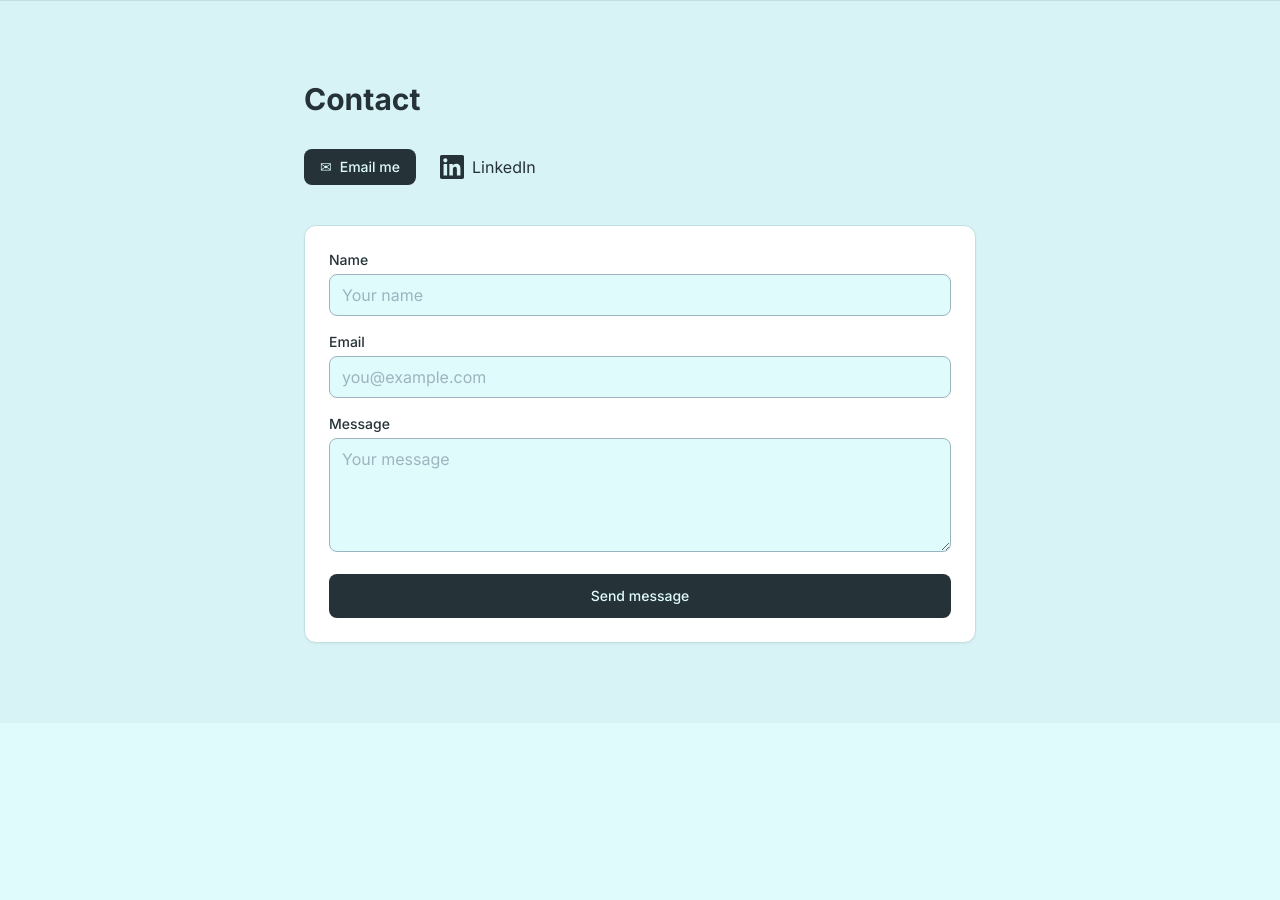
ContactSection › submits form and shows success message when Web3Forms succeeds
This screenshot has width=1280, height=900.
Type "Jane" into the field with placeholder "Your name".
click(640, 295); type("Jane")  # box 329,274 -> 951,316
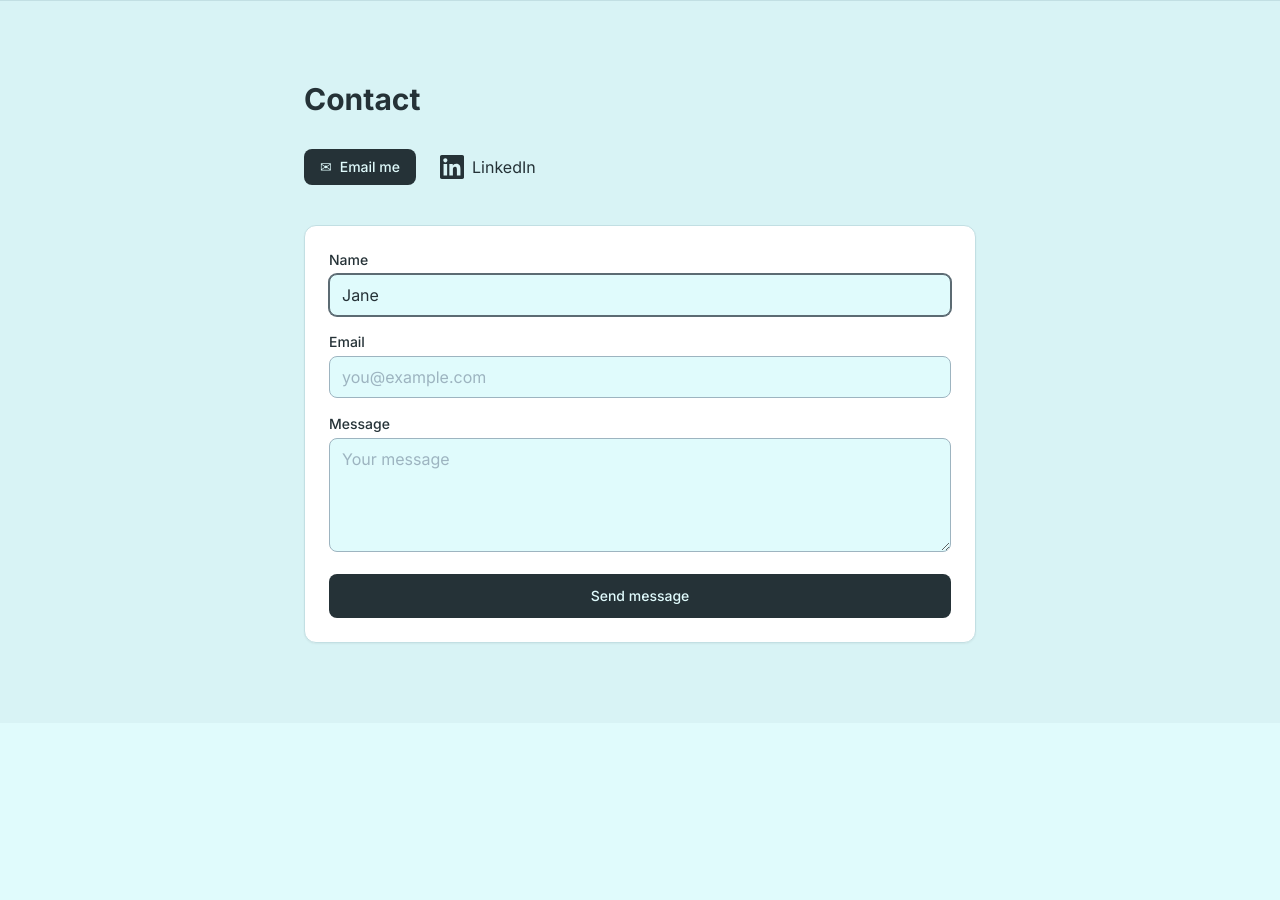
Type "jane@example.com" into the field with placeholder "you@example.com".
click(640, 377); type("jane@example.com")  # box 329,356 -> 951,398
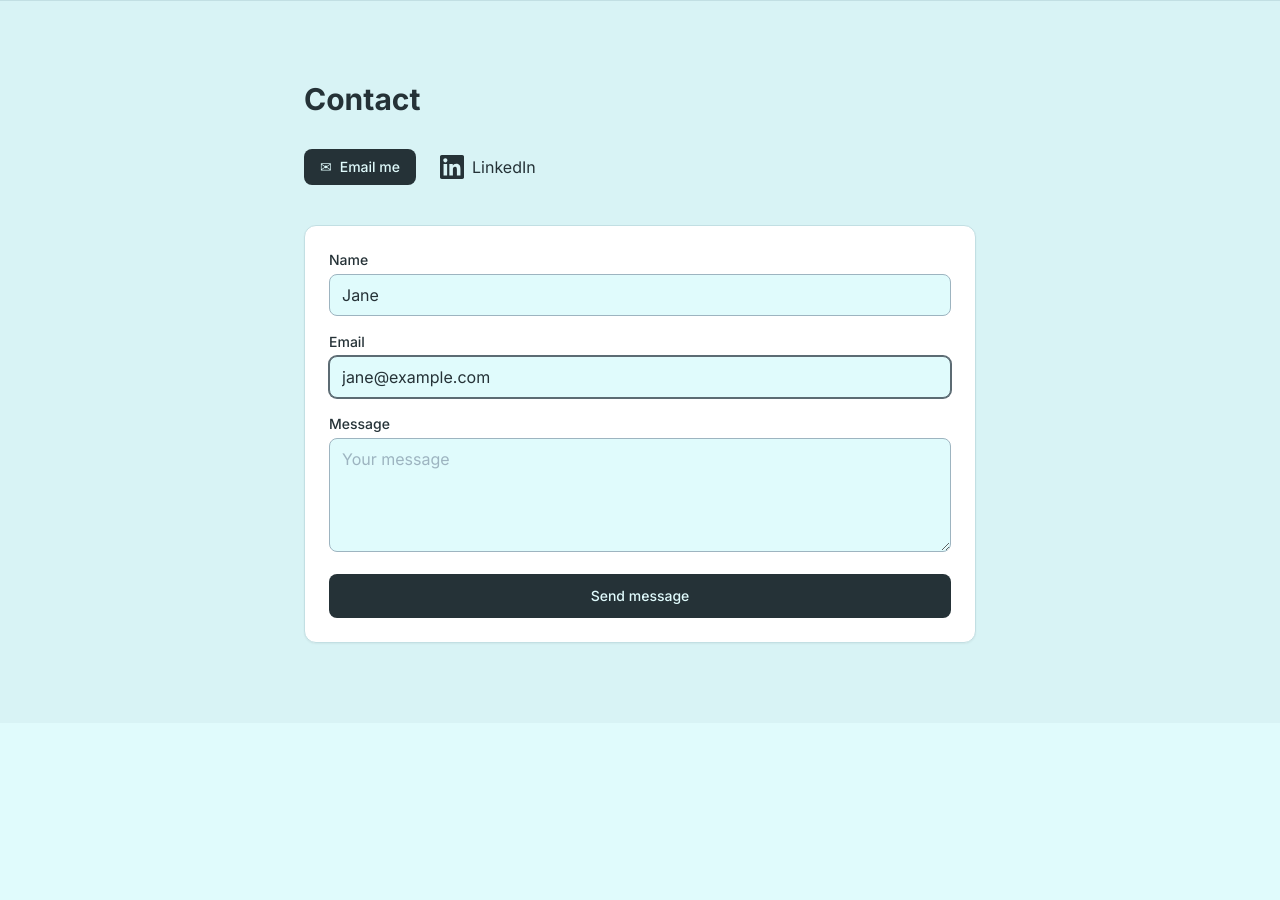
Type "Hello" into the text box with placeholder "Your message".
click(640, 495); type("Hello")  # box 329,438 -> 951,552
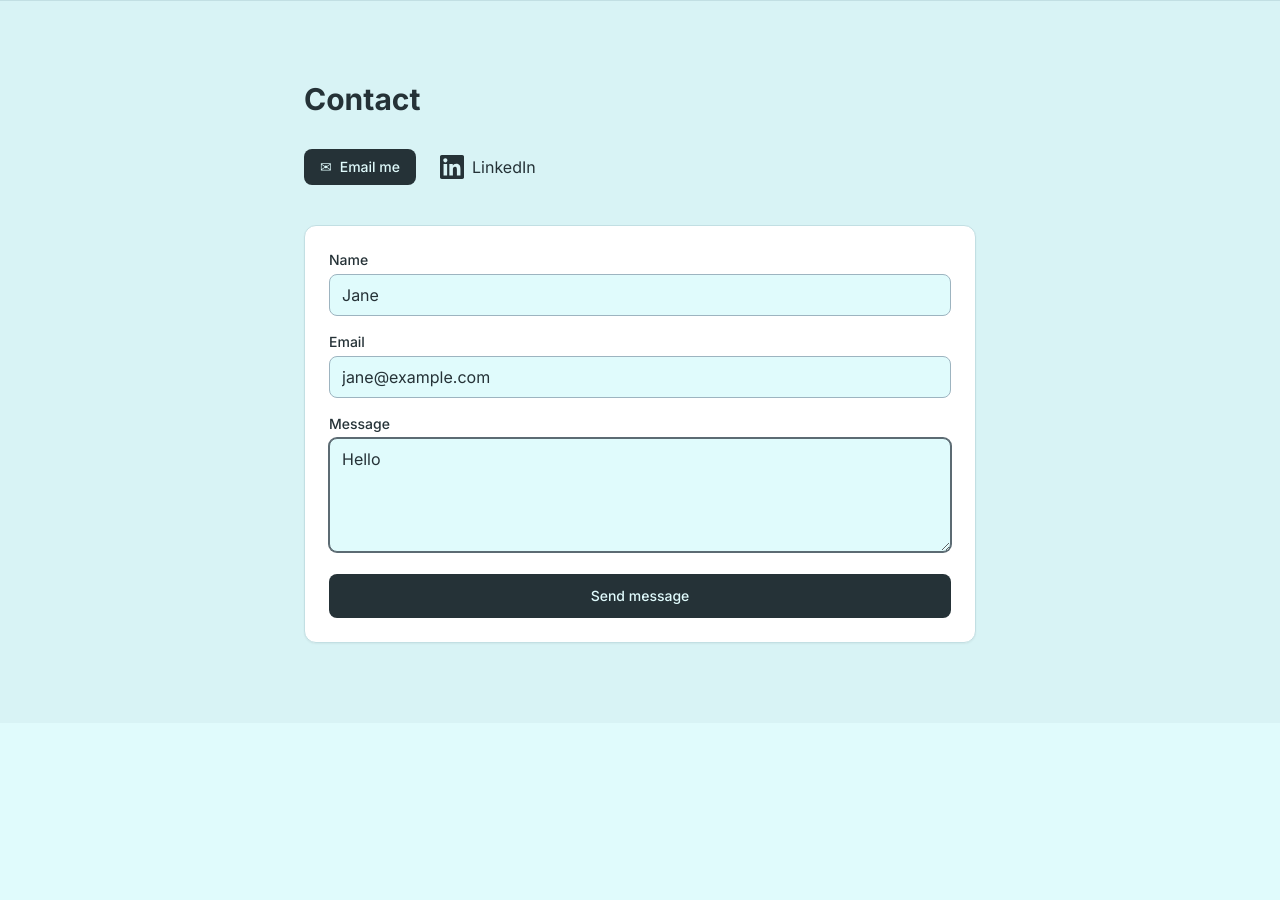
Click the button "Send message".
click(640, 596)  # box 329,574 -> 951,618
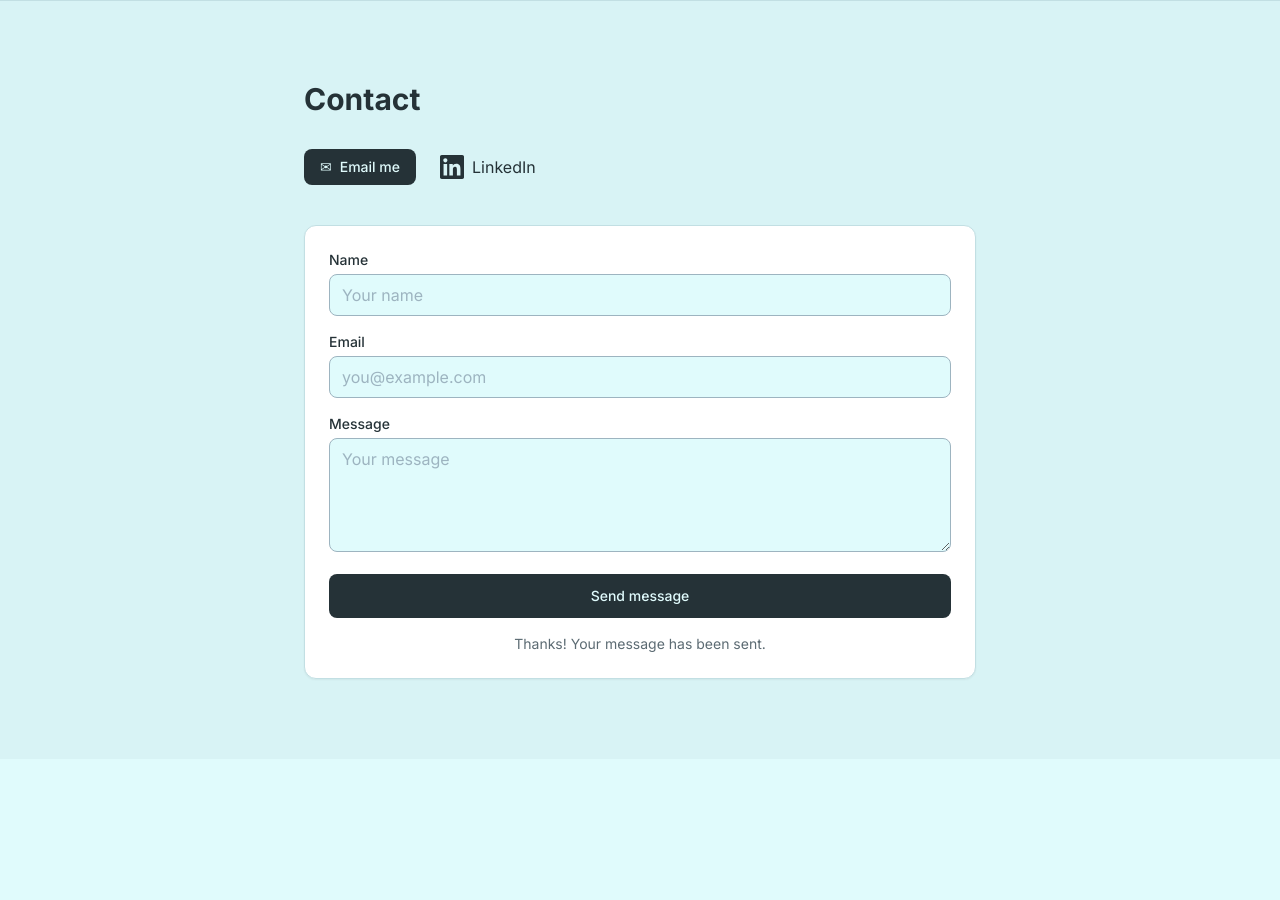
Expected: the text "Thanks! Your message has been sent." is shown, 514,635 -> 766,652
